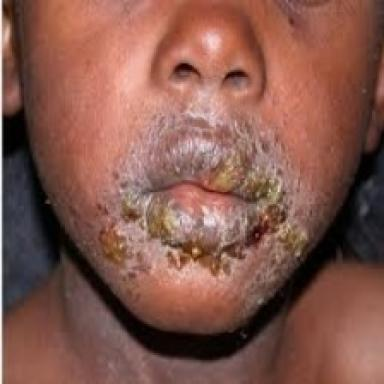Impetigo: (88, 105, 332, 332)
